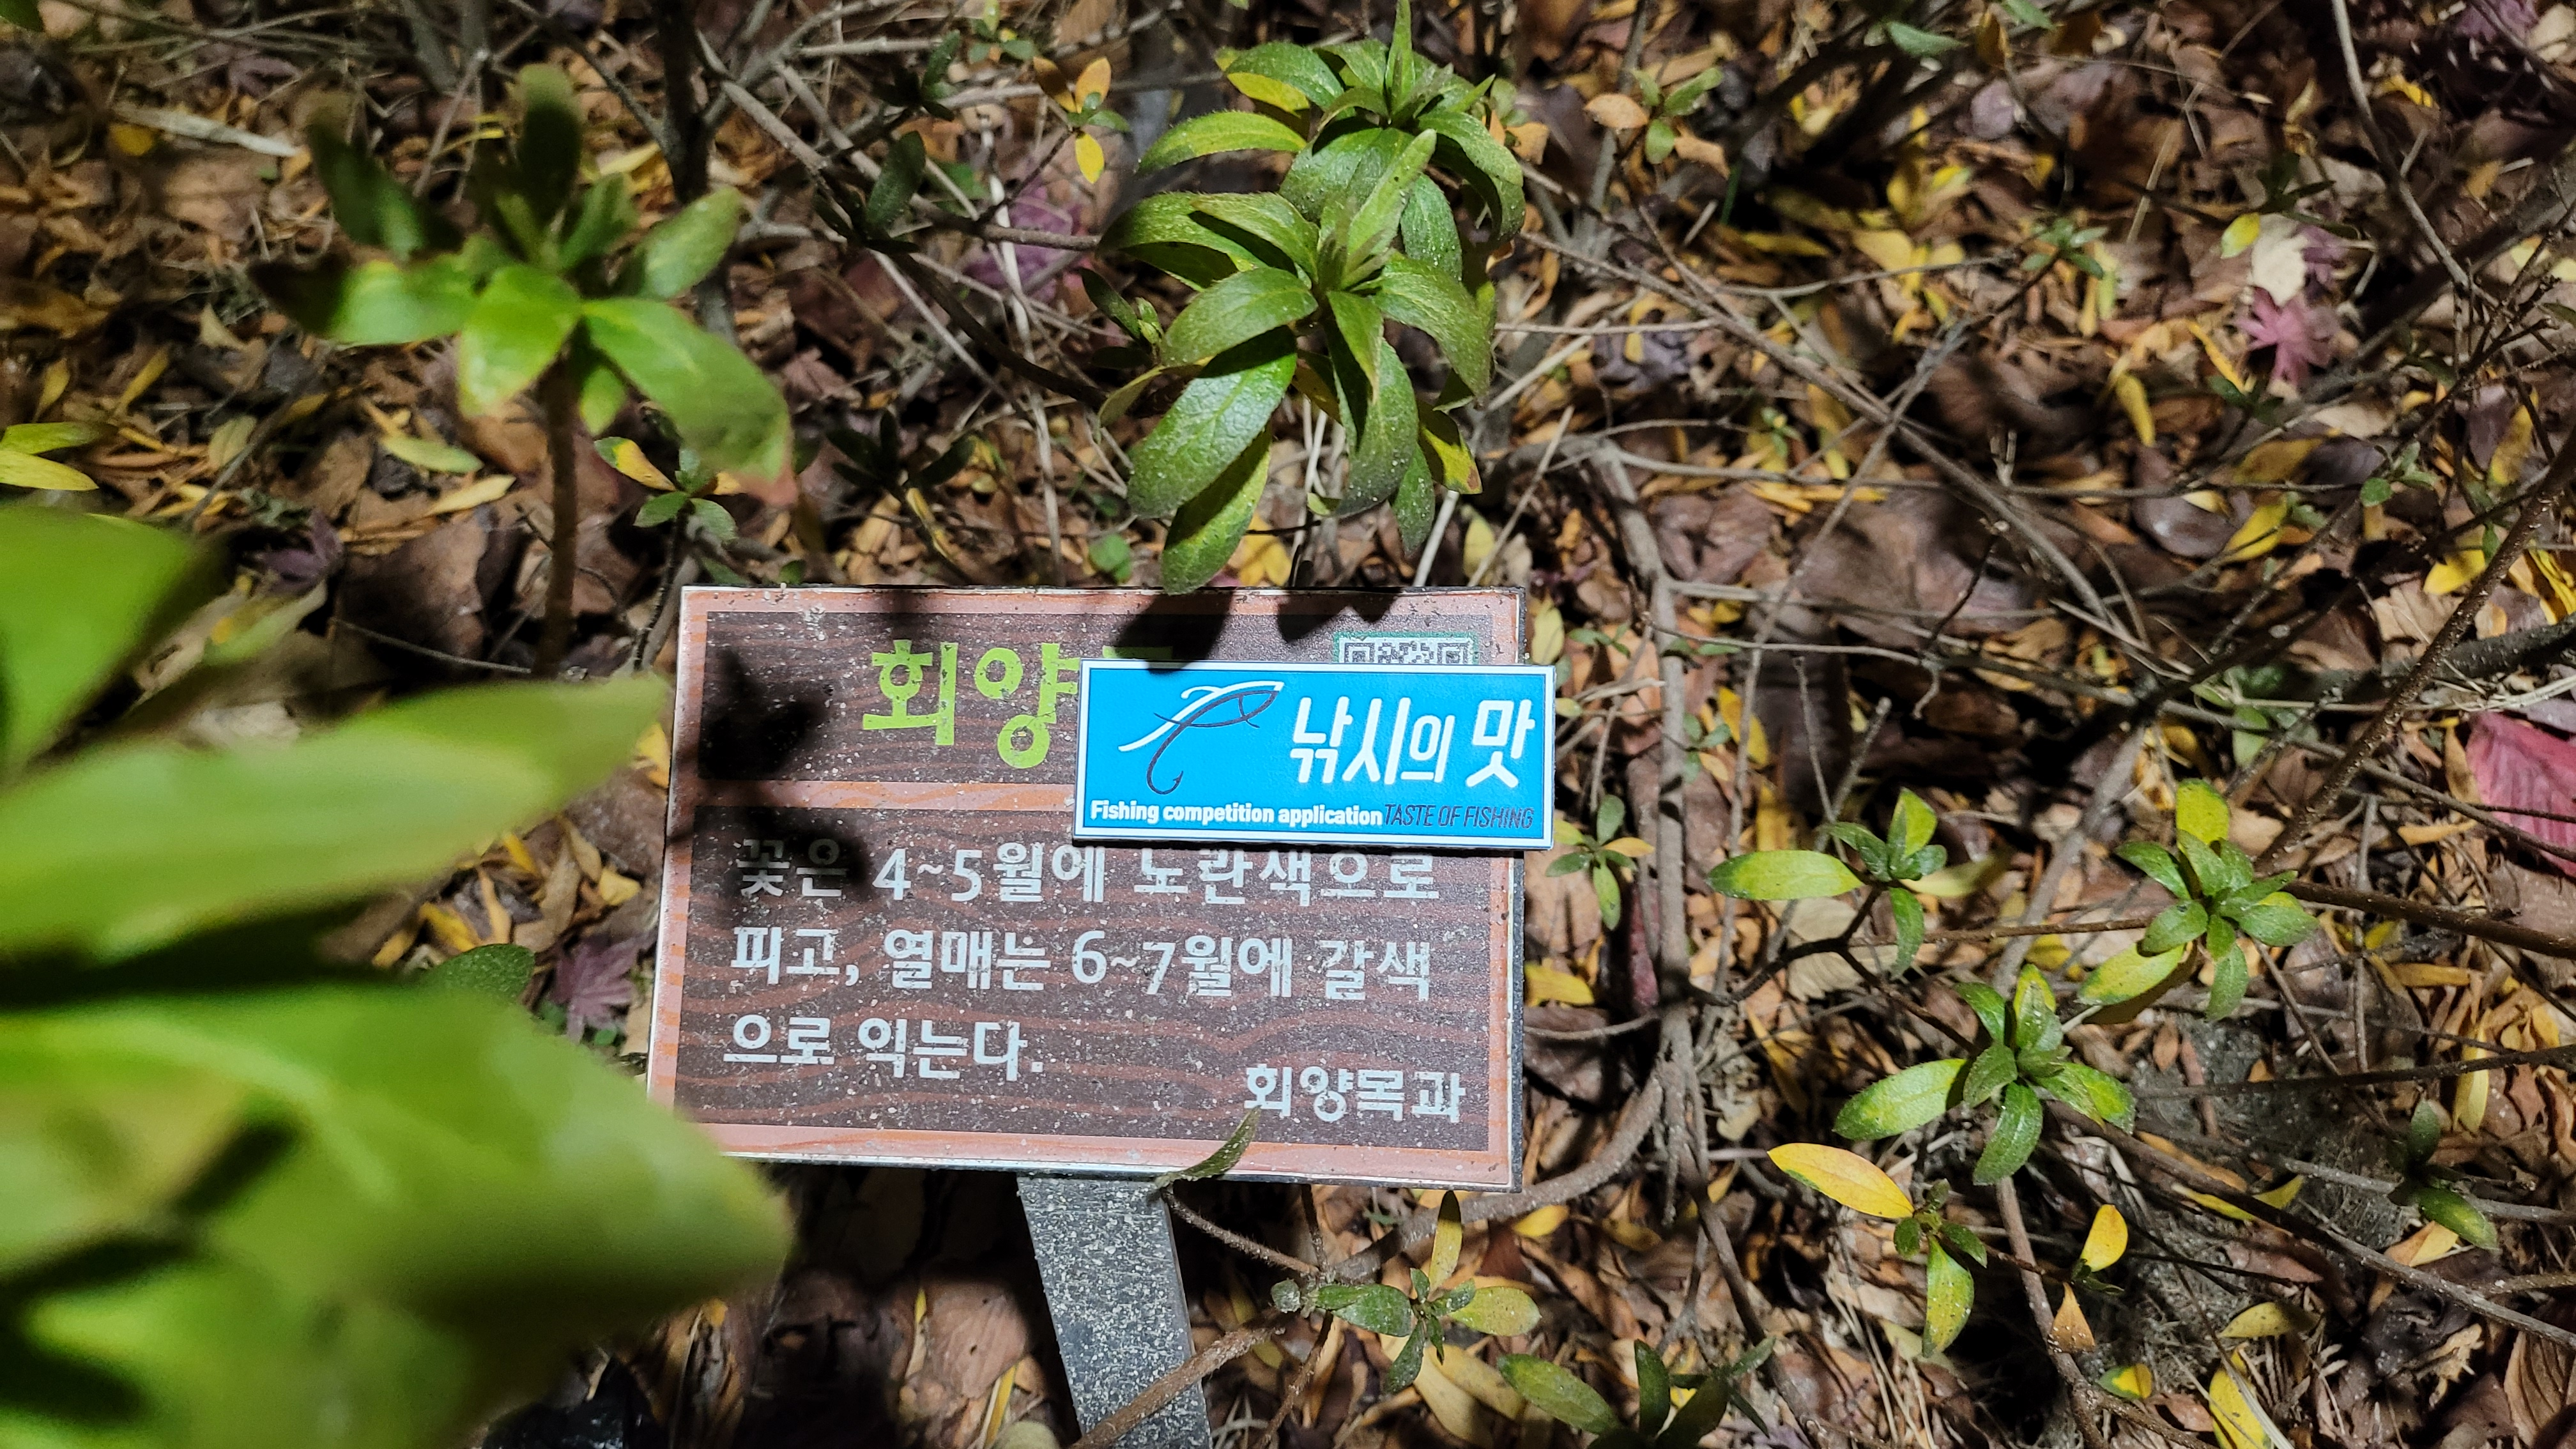tag: (1083, 662, 1552, 849)
